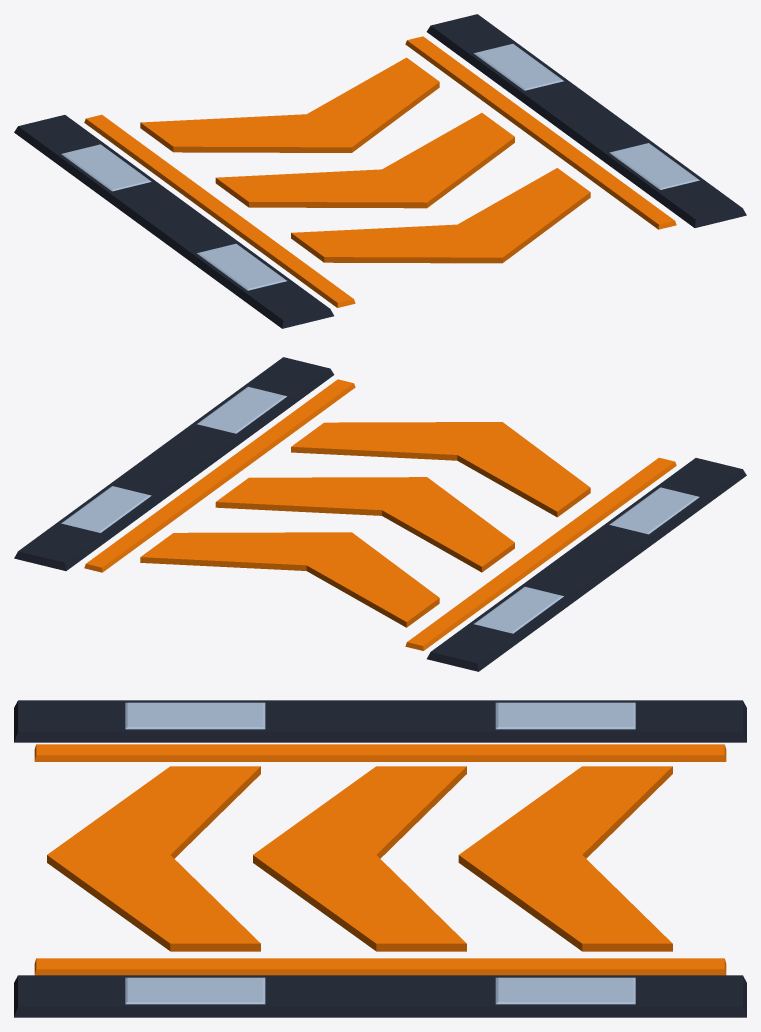
Rendered from SM_ArenaTile_Overlay_05_BoostRunway.obj.
3 views of the same model, one above another, from view 1: azimuth 30°, elevation 25°; view 2: azimuth 150°, elevation 25°; view 3: azimuth 270°, elevation 25° (orthographic). The views are drawn at different scales.
Visible parts, largest first — view 1: SM_ArenaTile_Overlay_05_BoostRunway__EMI_Kinetic, SM_ArenaTile_Overlay_05_BoostRunway__MAT_DarkNeutral, SM_ArenaTile_Overlay_05_BoostRunway__MAT_LightTrim; view 2: SM_ArenaTile_Overlay_05_BoostRunway__EMI_Kinetic, SM_ArenaTile_Overlay_05_BoostRunway__MAT_DarkNeutral, SM_ArenaTile_Overlay_05_BoostRunway__MAT_LightTrim; view 3: SM_ArenaTile_Overlay_05_BoostRunway__EMI_Kinetic, SM_ArenaTile_Overlay_05_BoostRunway__MAT_DarkNeutral, SM_ArenaTile_Overlay_05_BoostRunway__MAT_LightTrim.
Part boxes in pixels (box(x1,y1,x2,y2)): SM_ArenaTile_Overlay_05_BoostRunway__EMI_Kinetic: box(84, 36, 676, 307); SM_ArenaTile_Overlay_05_BoostRunway__MAT_DarkNeutral: box(14, 14, 746, 328); SM_ArenaTile_Overlay_05_BoostRunway__MAT_LightTrim: box(61, 43, 699, 290); SM_ArenaTile_Overlay_05_BoostRunway__EMI_Kinetic: box(84, 379, 676, 650); SM_ArenaTile_Overlay_05_BoostRunway__MAT_DarkNeutral: box(14, 357, 746, 671); SM_ArenaTile_Overlay_05_BoostRunway__MAT_LightTrim: box(61, 386, 699, 633); SM_ArenaTile_Overlay_05_BoostRunway__EMI_Kinetic: box(34, 744, 726, 975); SM_ArenaTile_Overlay_05_BoostRunway__MAT_DarkNeutral: box(14, 700, 746, 1017); SM_ArenaTile_Overlay_05_BoostRunway__MAT_LightTrim: box(125, 702, 635, 1004).
Size of the model in its own units: 8.9 by 0.14 by 8.9.
3 materials, 3 textured.
